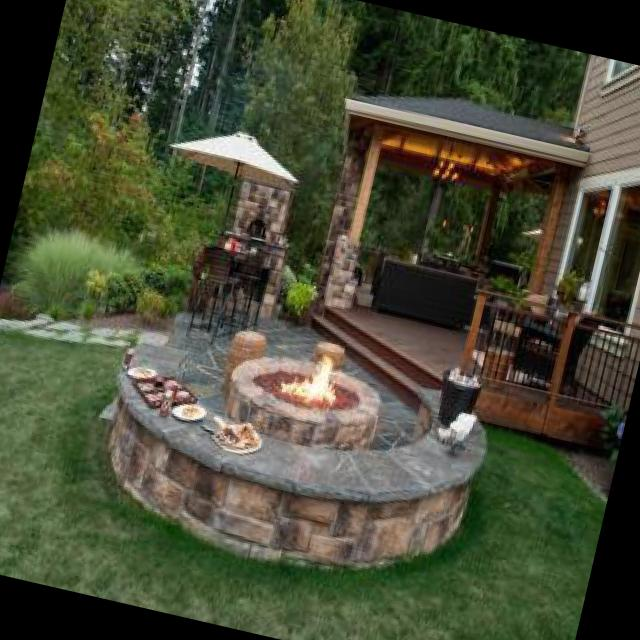Fire: (279, 342, 343, 410)
